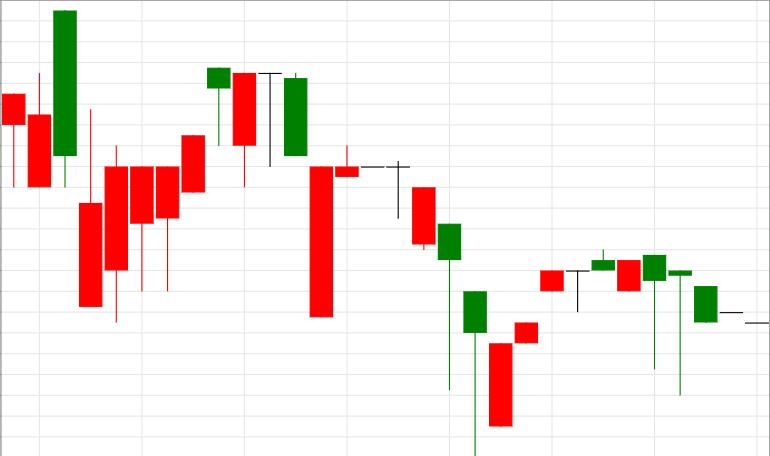hammer_rise: (284, 72, 486, 456), (284, 71, 461, 389)
